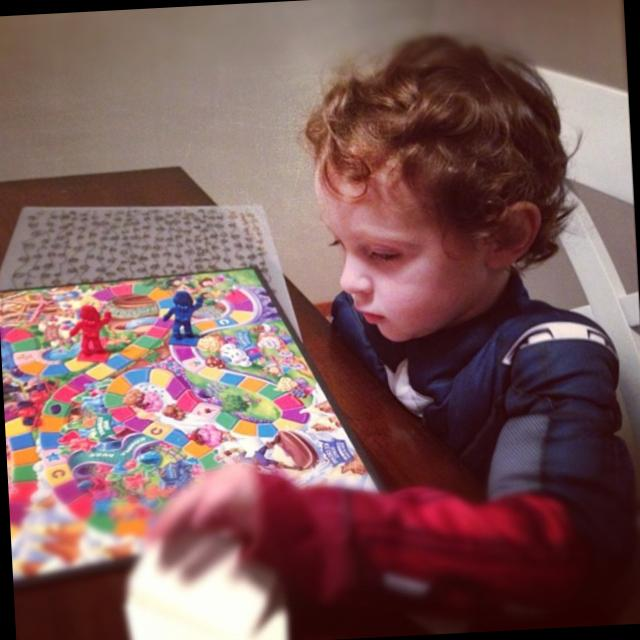Toy: (0, 255, 383, 572), (161, 286, 212, 344)
